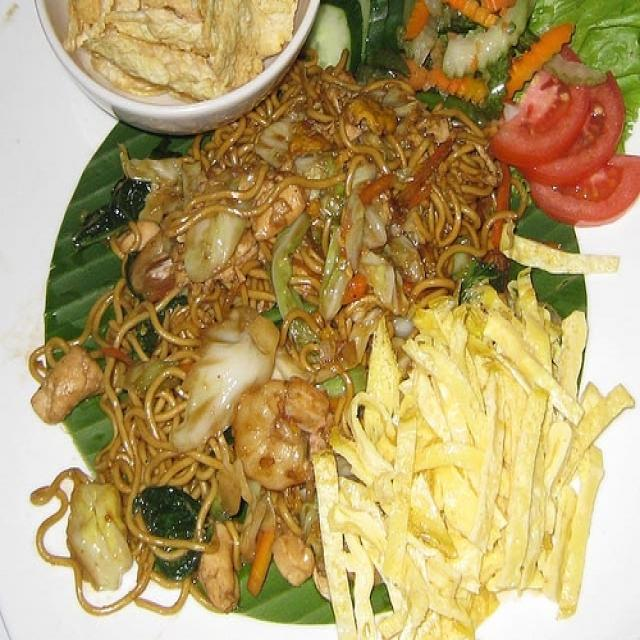面条主食: (32, 25, 599, 622)
